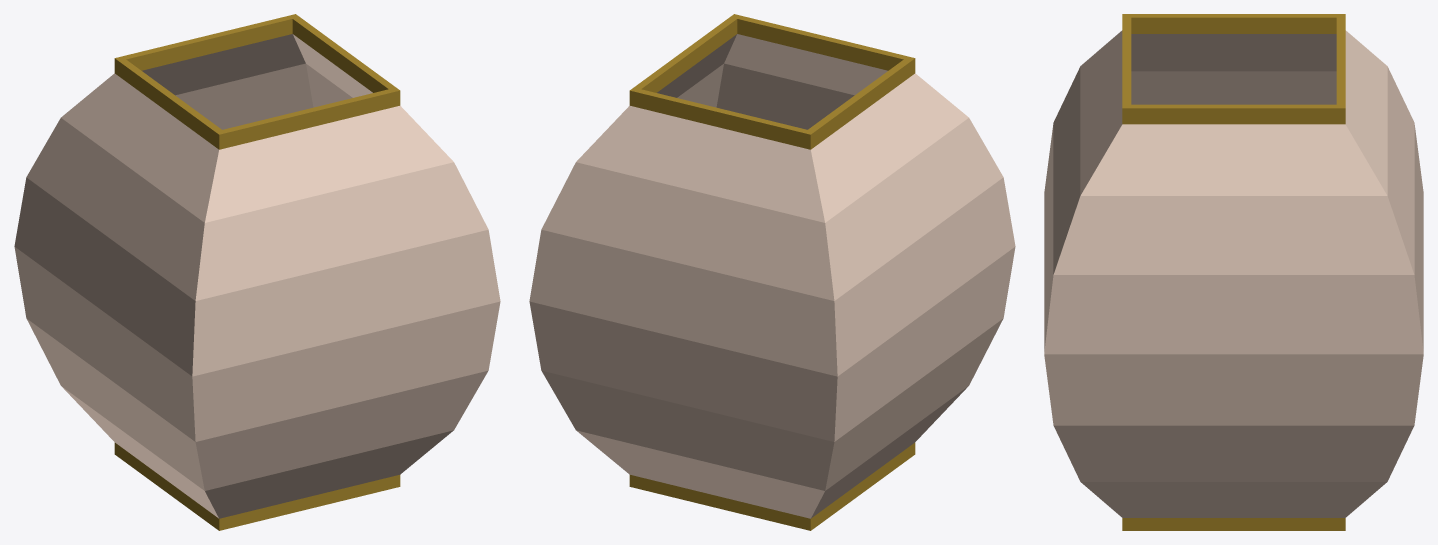
The model's file is Lantern1-SquareBall.fbx.
The picture shows the model from 3 angles, left to right: view 1: azimuth 30°, elevation 25°; view 2: azimuth 150°, elevation 25°; view 3: azimuth 270°, elevation 25°; orthographic projection. The views are drawn at different scales.
Visible parts, largest first — view 1: pSphere15; view 2: pSphere15; view 3: pSphere15.
Part boxes in pixels (x1,y1,x2,y2): pSphere15: (14,14,500,530); pSphere15: (529,14,1015,530); pSphere15: (1044,14,1423,530).
Size of the model in its own units: 0.6609 by 0.812 by 0.6609.
